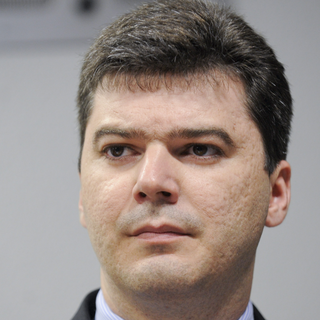eye: (174, 139, 227, 163), (97, 139, 142, 164)
